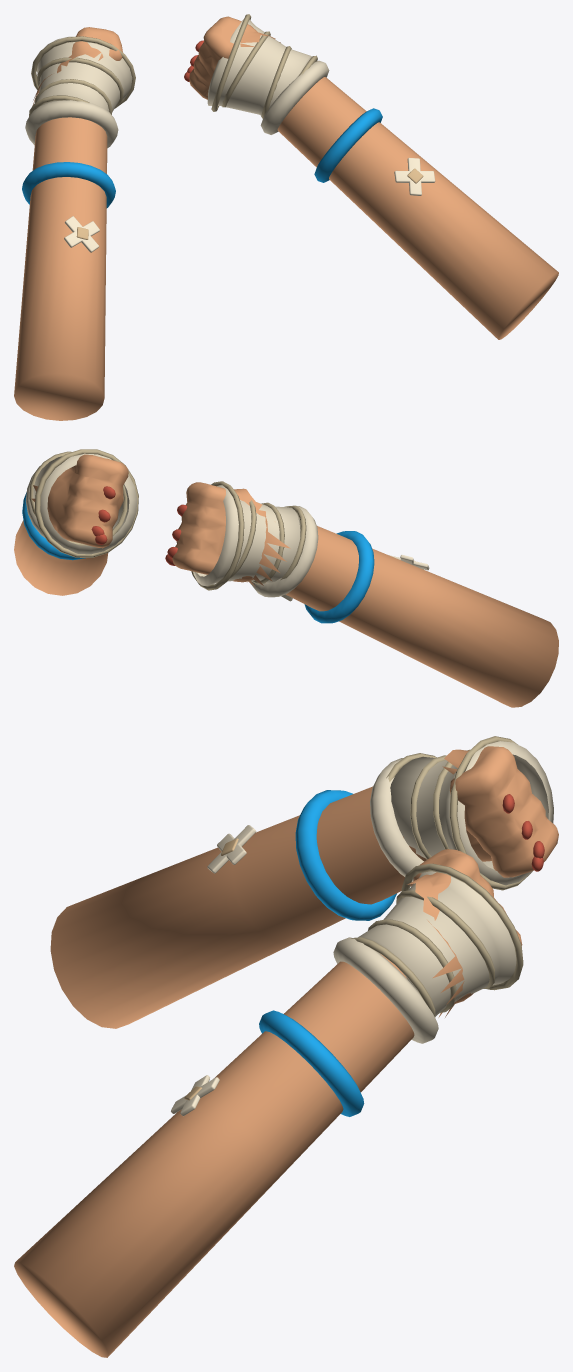
The model's file is siao.glb.
3 renders of one model, top to bottom at view 1: azimuth 30°, elevation 25°; view 2: azimuth 150°, elevation 25°; view 3: azimuth 270°, elevation 25°, orthographic. The views are drawn at different scales.
Parts seen in each view (by area): view 1: R, L; view 2: L, R; view 3: R, L.
Boxes of the visible parts, x1,y1,x2,y2 form: R: (184, 14, 558, 339); L: (14, 27, 135, 420); L: (165, 481, 558, 707); R: (14, 449, 138, 595); R: (14, 849, 523, 1357); L: (50, 736, 558, 1028).
Bounding box in the file's own units: 0.9771 × 0.4861 × 0.5959.
